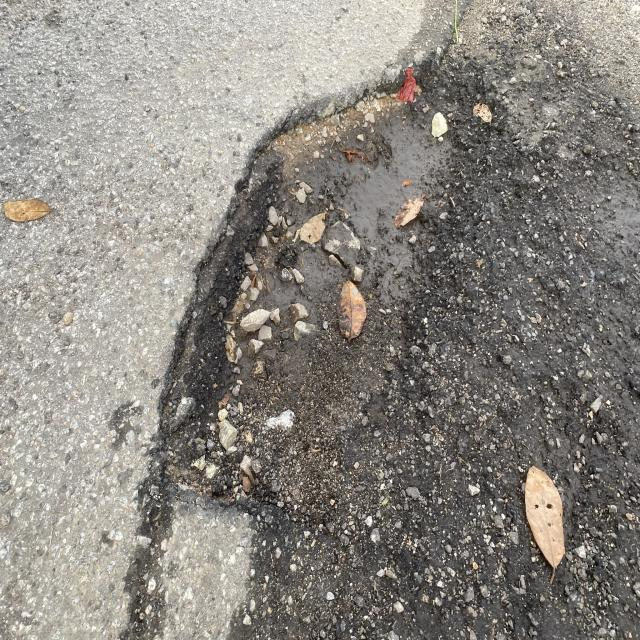pothole: (165, 59, 510, 612)
